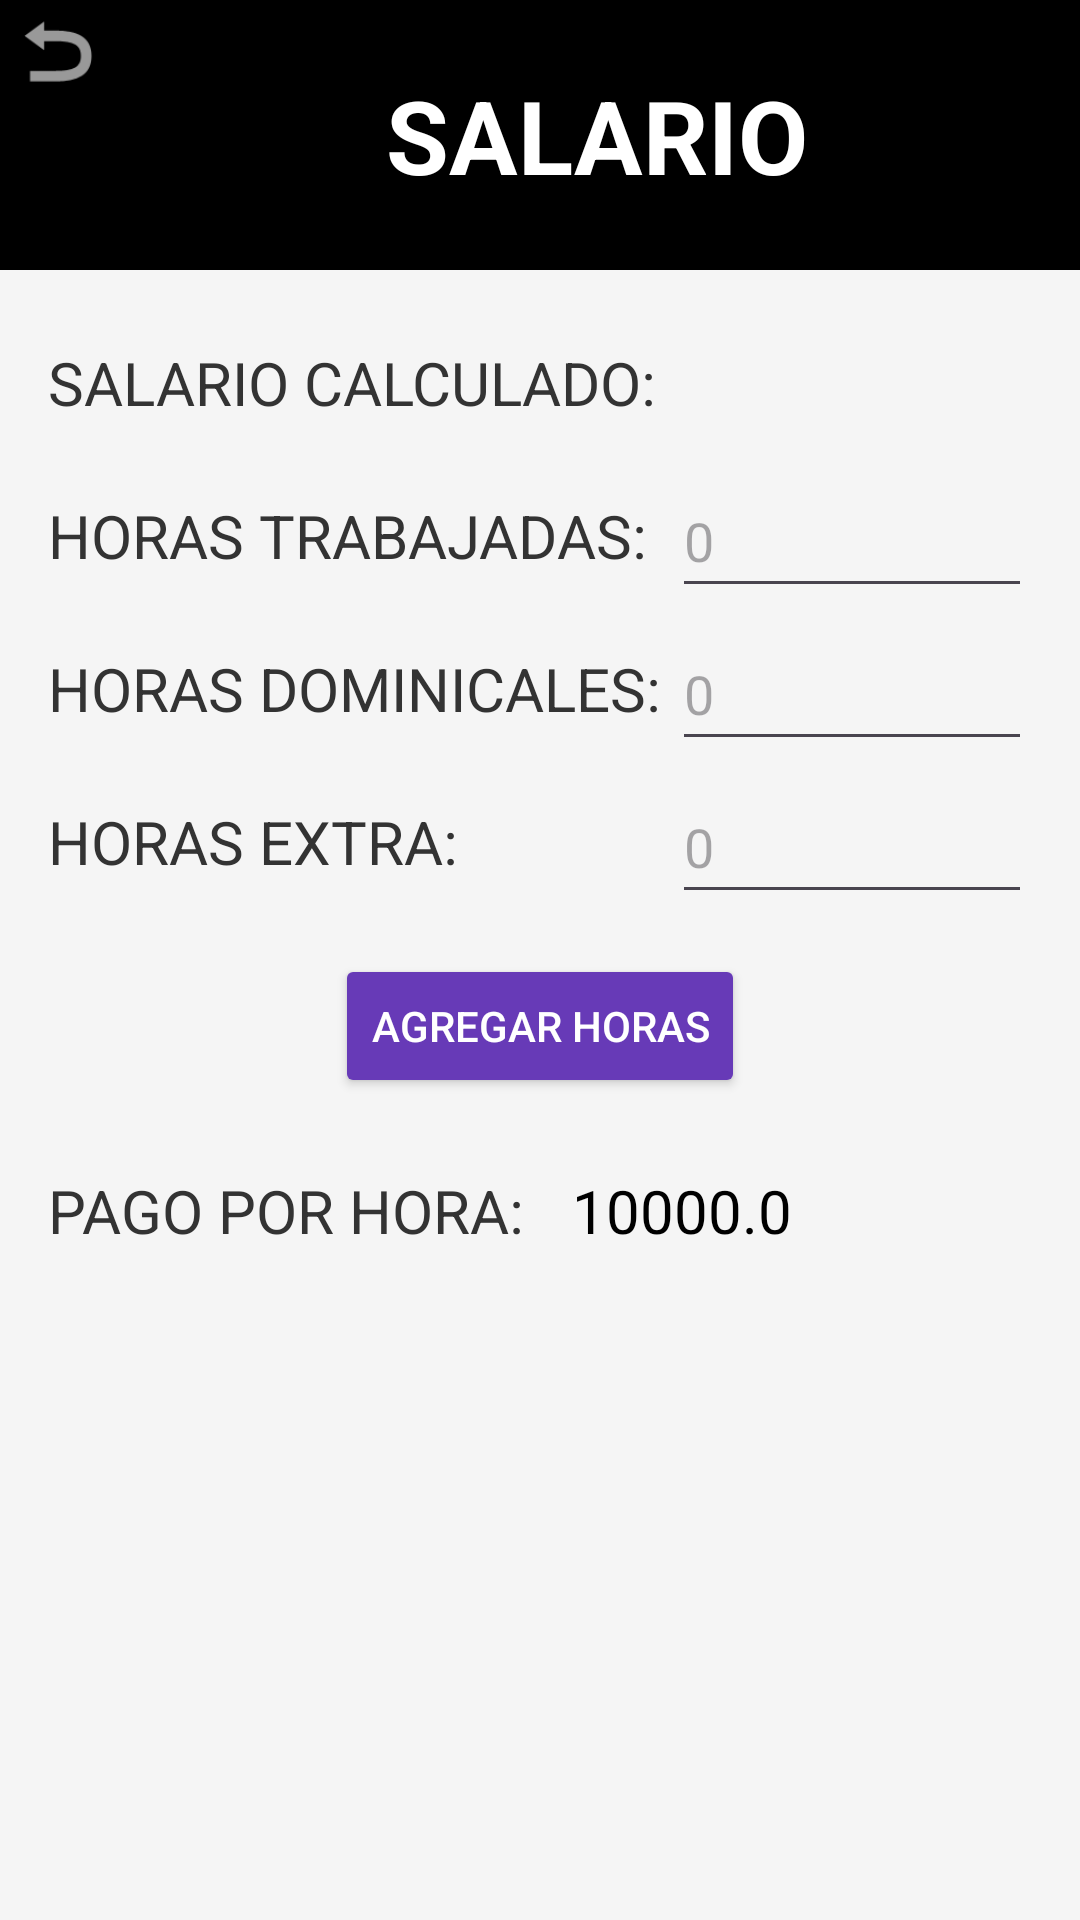

Named icons in this screenshot (1080w x 1920h) and their bounding boxes, (x1, y1, x2, y2):
Botón de retroceso: (25, 21, 92, 82)
